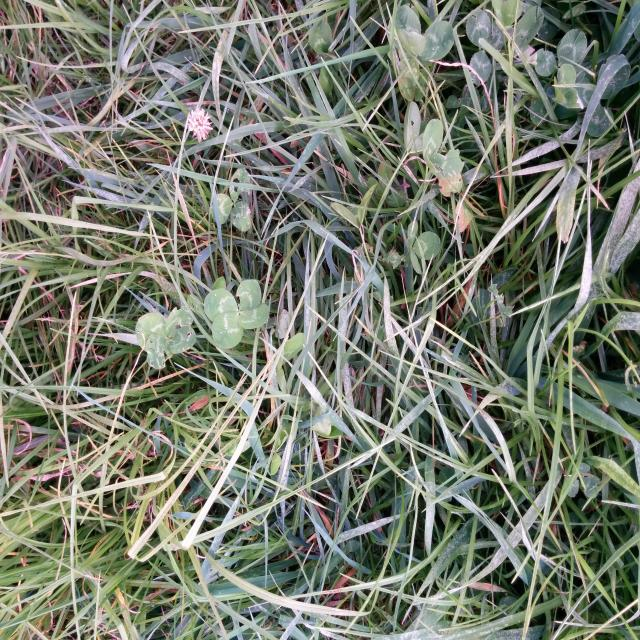Four Leaf Clover: (204, 279, 269, 349), (135, 305, 196, 370)
